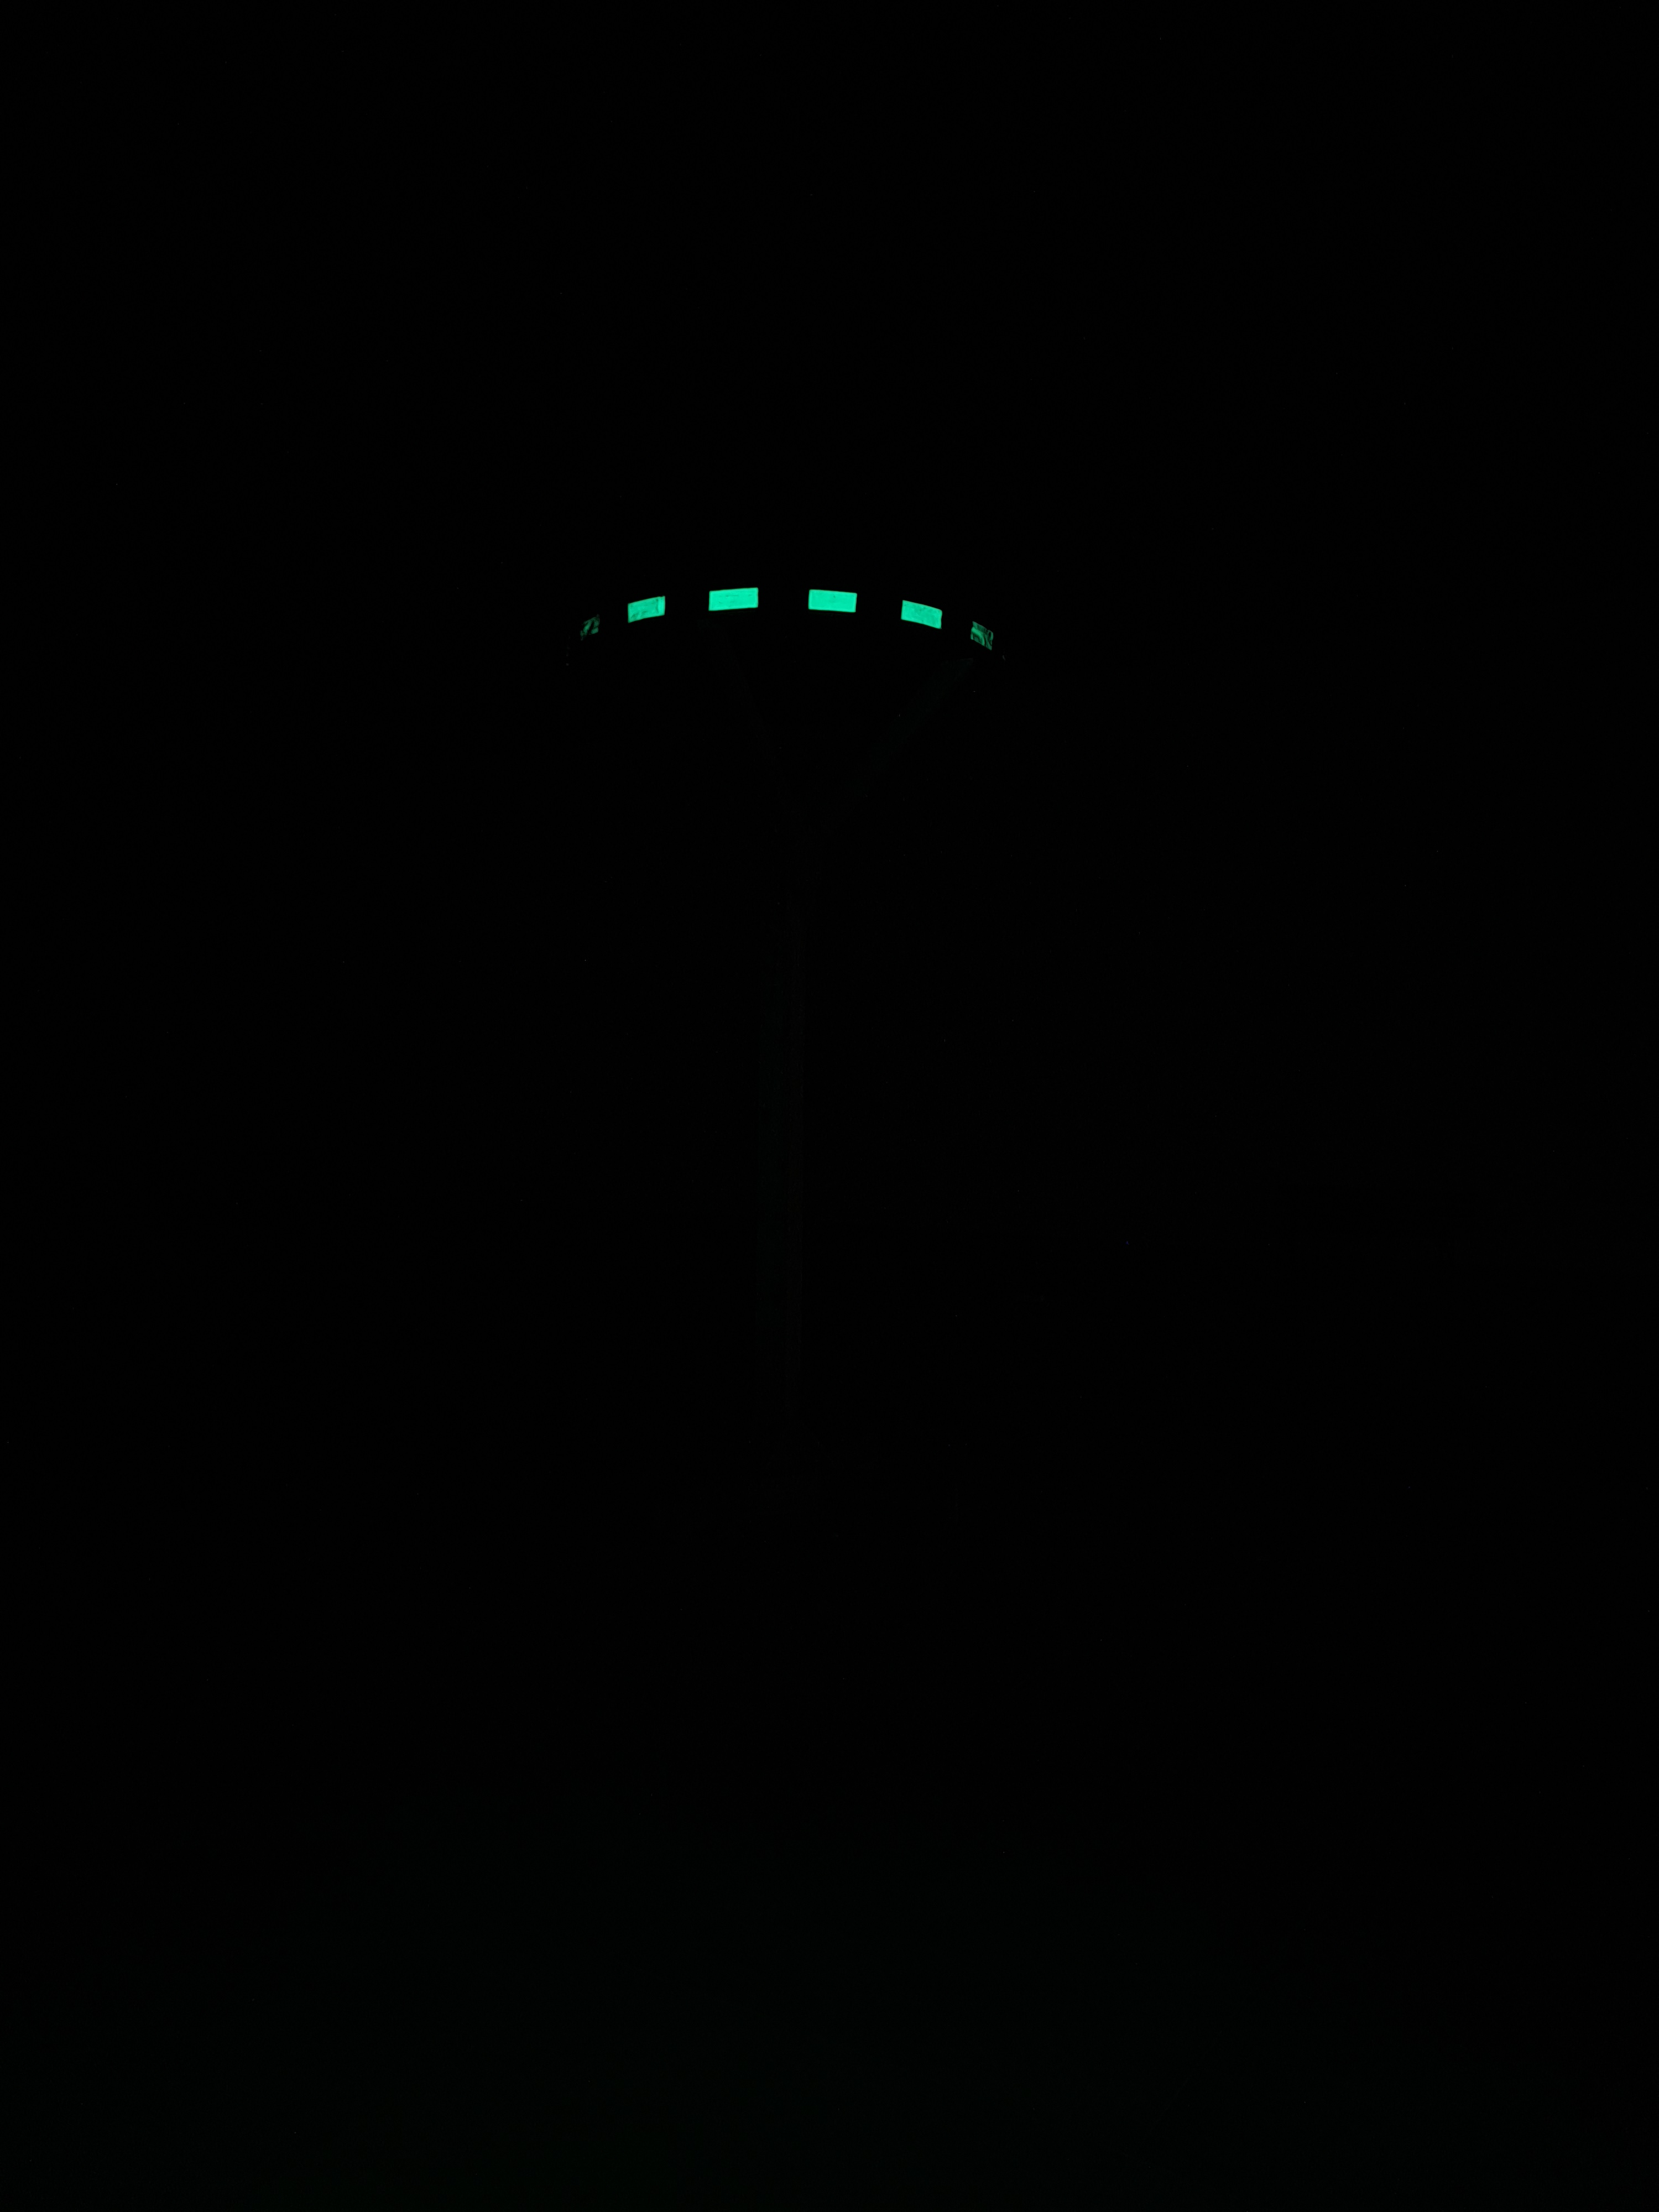hoop: (579, 582, 993, 657)
